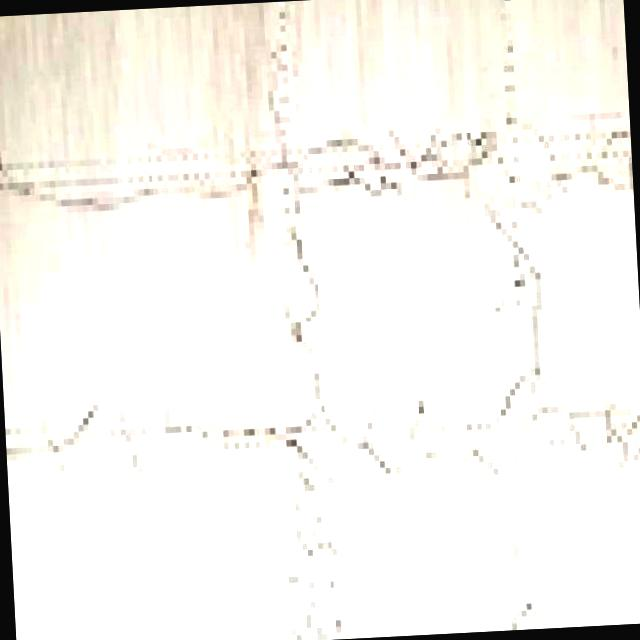crack: (262, 35, 346, 640), (482, 130, 564, 628)
